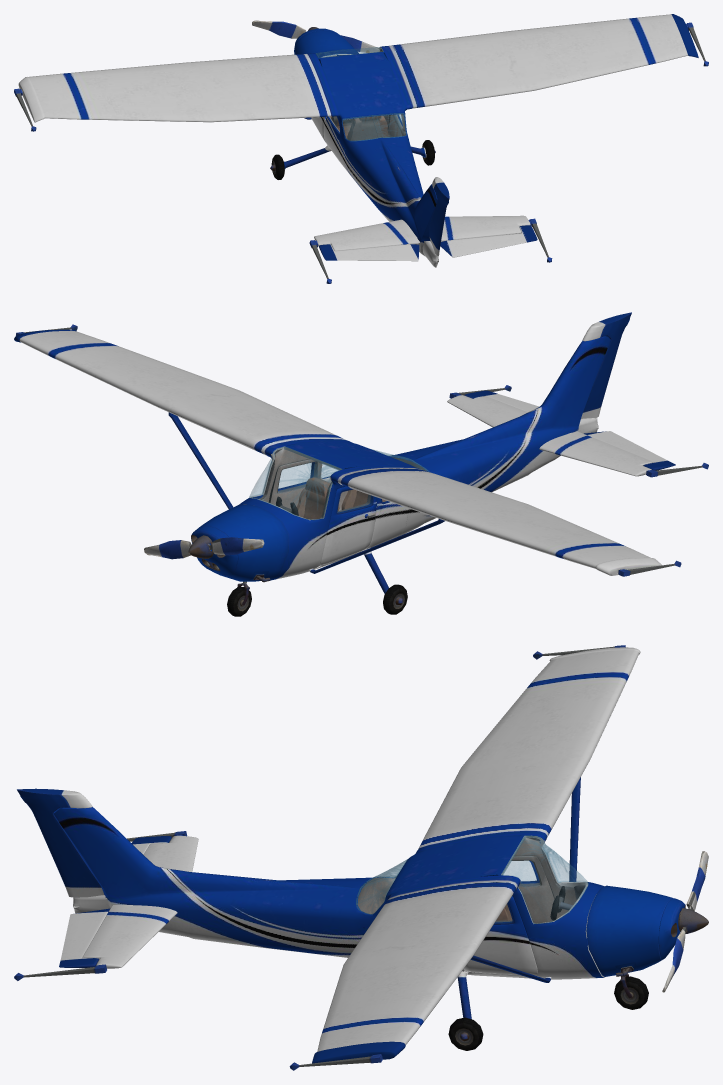
The picture shows the model from 3 angles, top to bottom: view 1: azimuth 30°, elevation 25°; view 2: azimuth 150°, elevation 25°; view 3: azimuth 270°, elevation 25°; orthographic projection. The views are drawn at different scales.
Visible parts, largest first — view 1: xtras_2, haleror_2, xtras_4, xtras_3, halerorvert_2; view 2: xtras_2, xtras_4, halerorvert_2, xtras_3, haleror_2; view 3: xtras_2, xtras_4, halerorvert_2, haleror_2, xtras_3.
Part boxes in pixels (box(x1,y1,x2,y2)): xtras_2: box(14, 14, 708, 283); haleror_2: box(319, 225, 537, 261); xtras_4: box(294, 28, 358, 54); xtras_3: box(252, 20, 379, 52); halerorvert_2: box(429, 177, 449, 256); xtras_2: box(14, 324, 708, 616); xtras_4: box(191, 504, 289, 582); halerorvert_2: box(581, 312, 631, 418); xtras_3: box(144, 535, 264, 559); haleror_2: box(464, 390, 675, 470); xtras_2: box(14, 645, 648, 1070); xtras_4: box(586, 885, 685, 976); halerorvert_2: box(17, 788, 104, 897); haleror_2: box(59, 836, 171, 967); xtras_3: box(662, 851, 708, 992).
Bounding box in the file's own units: 1260 × 249 × 911.
6 materials, 6 textured.
